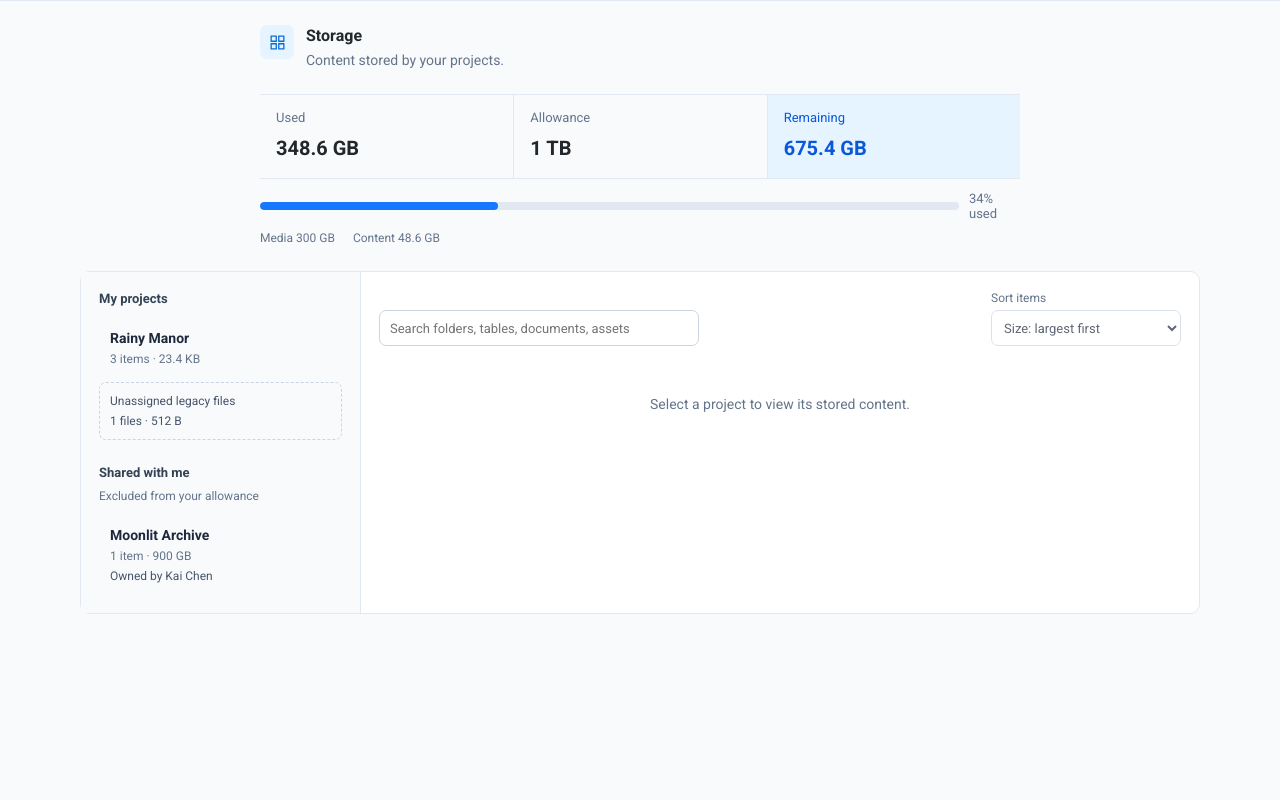
Test: AccountStorageSection › shows retryable entity and detail failures
This screenshot has width=1280, height=800.
Check: the text "348.6 GB" is shown, box [276,136,359,160]
Click the button "Rainy Manor 3 items · 23.4 KB" at (220, 348), box [99,318,342,378]
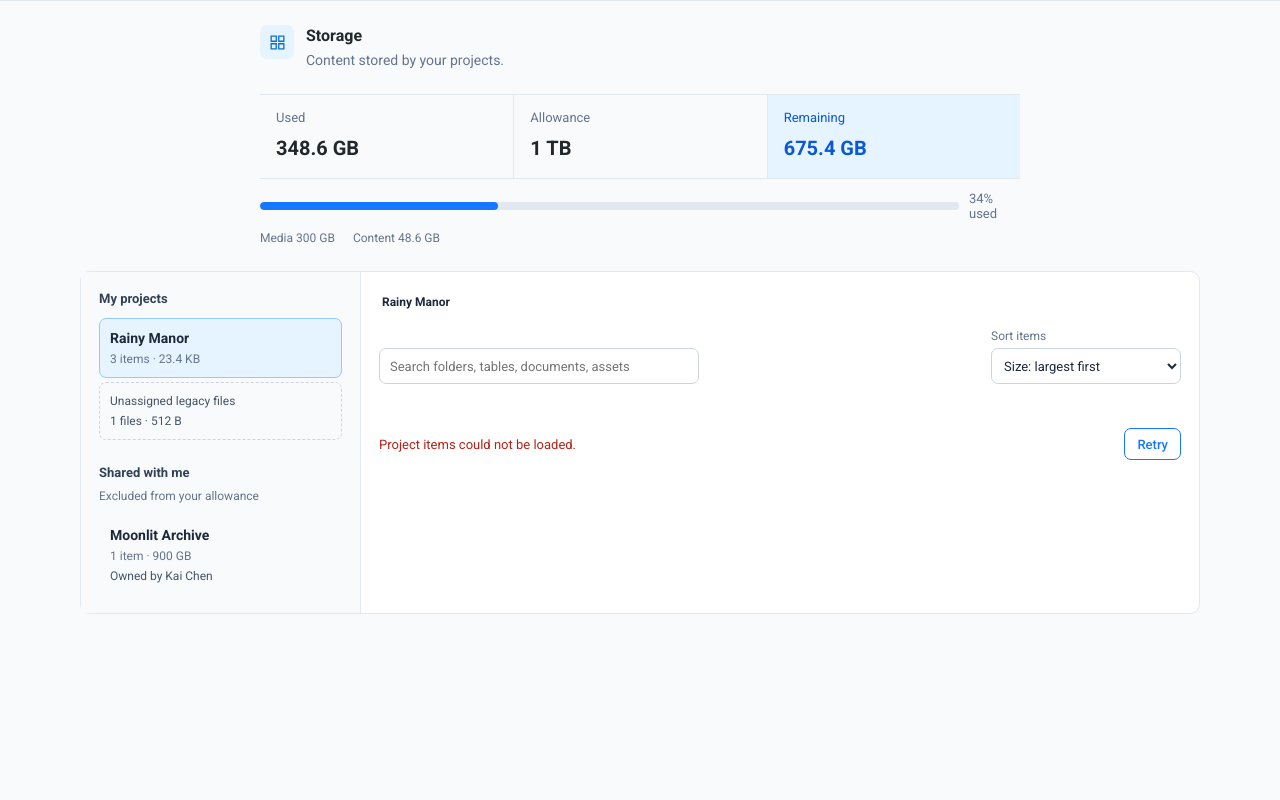
Check: the text "Project items could not be loaded." is shown, box [379,436,576,452]
Click the button "Retry" at (1153, 444), box [1124,428,1181,460]
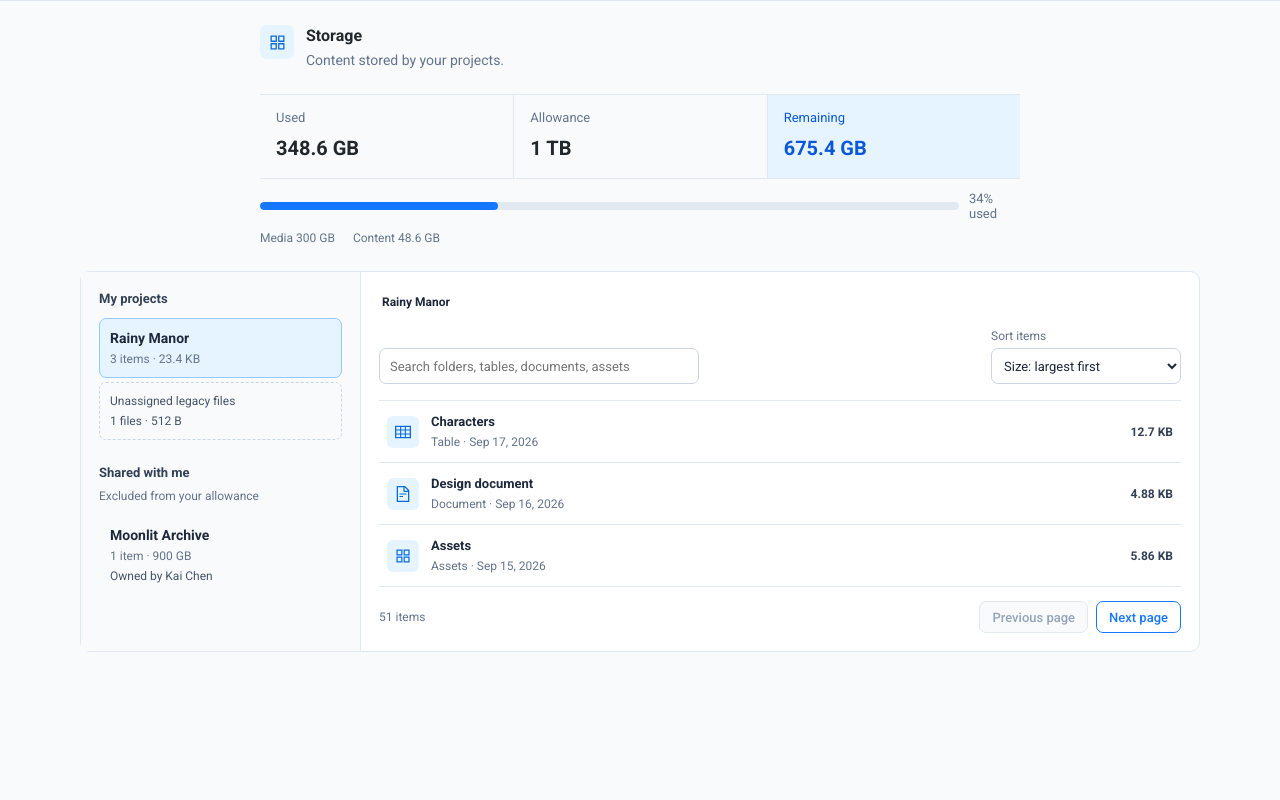
Click the list item "Characters" at (403, 432), box [379,401,1181,463]
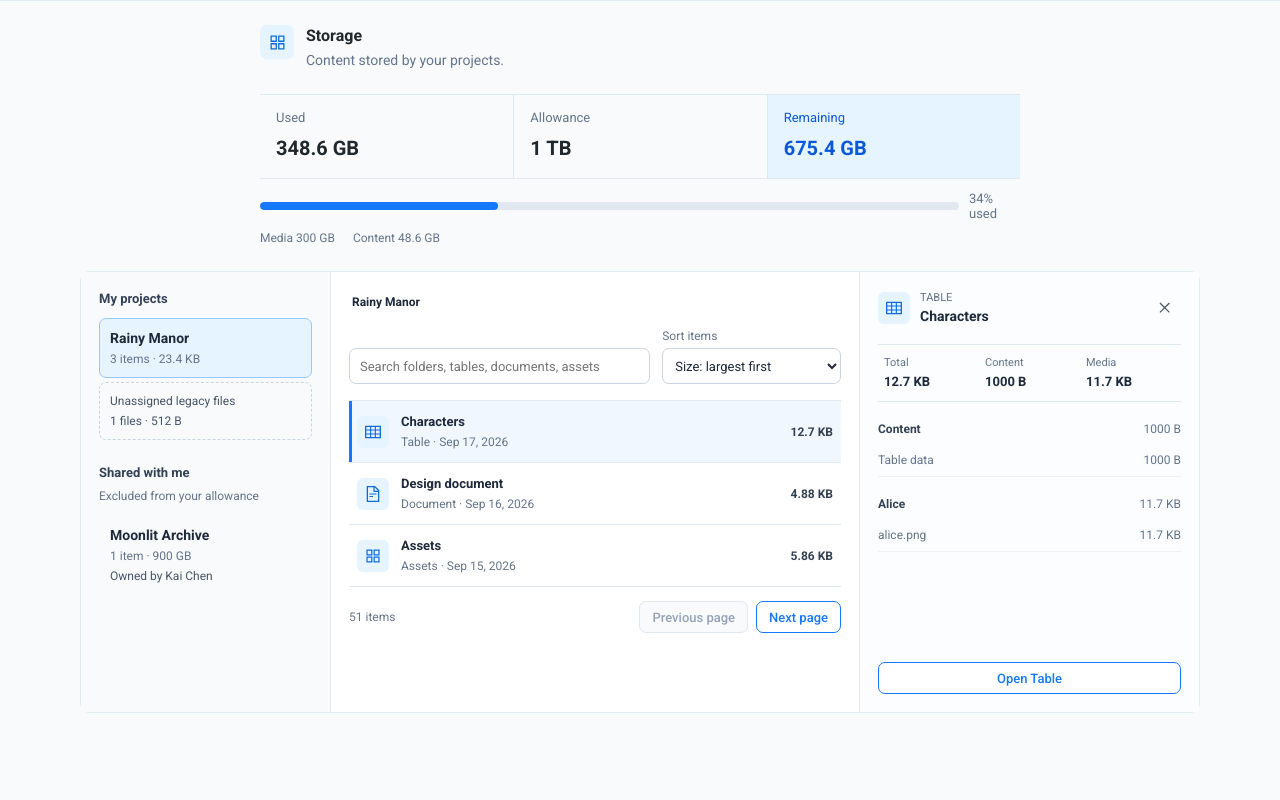
Check: the text "Table data" is shown, box [878,453,934,467]
